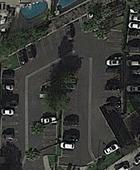parkingspot: (16, 13, 92, 70), (57, 89, 78, 168), (103, 29, 124, 105), (0, 68, 20, 143), (42, 110, 58, 157), (124, 57, 140, 102), (125, 8, 140, 54)
